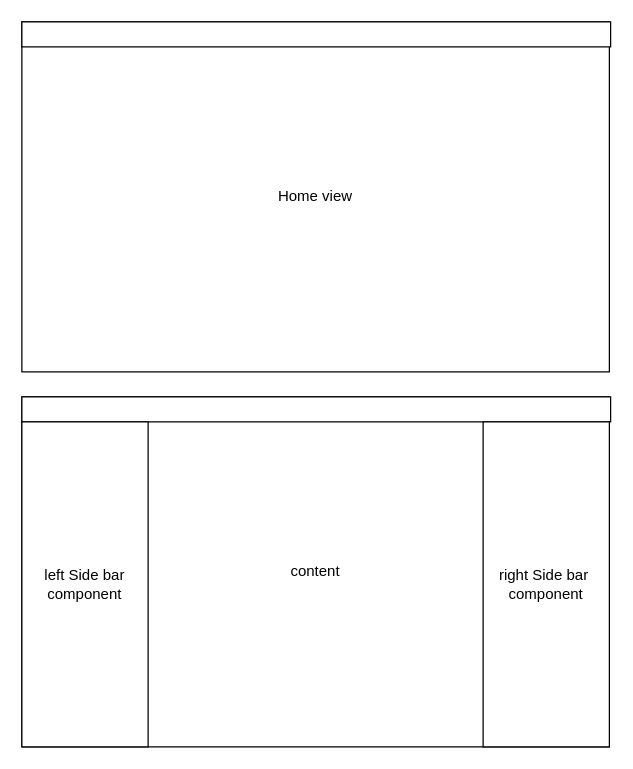
This 633x769 diagram has some shape labels left out. The box of each missing label's shape, as (x1, y1, x2, y2) in pixels:
Header: (21, 21, 611, 47)
nav bar component: (21, 396, 611, 422)
